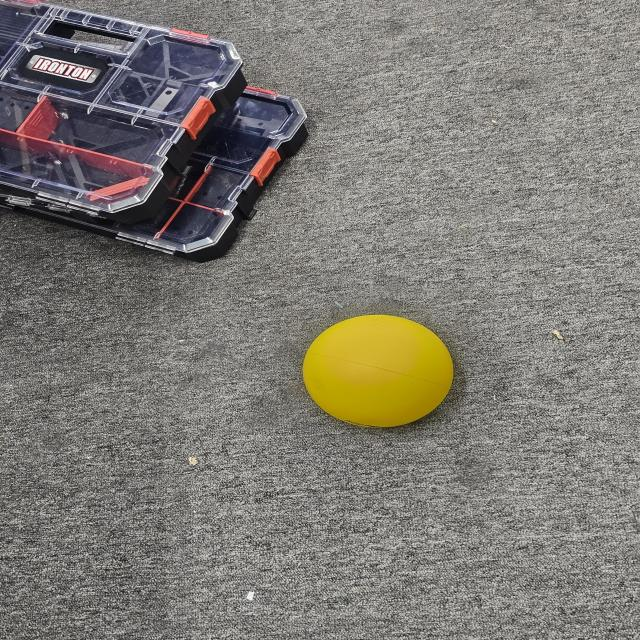Fuel: (298, 311, 460, 435)
